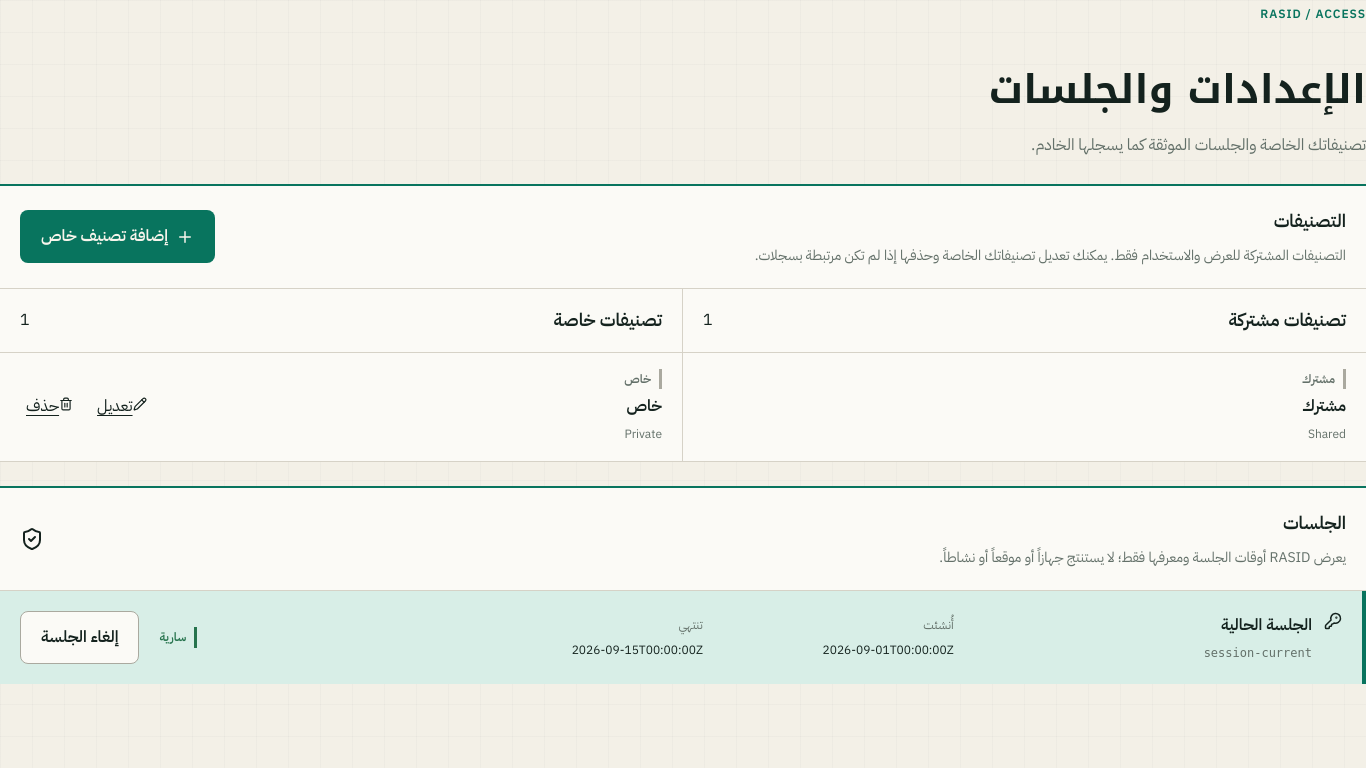
SettingsPage › keeps shared categories read-only and explains private-category deletion conflicts
Expected: the heading "تصنيفات مشتركة" is shown, [1228, 305, 1346, 336]
Expected: the number of buttons "تعديل" is 1, [91, 384, 153, 428]
Click the button "حذف" at [50, 406], box [20, 384, 79, 428]
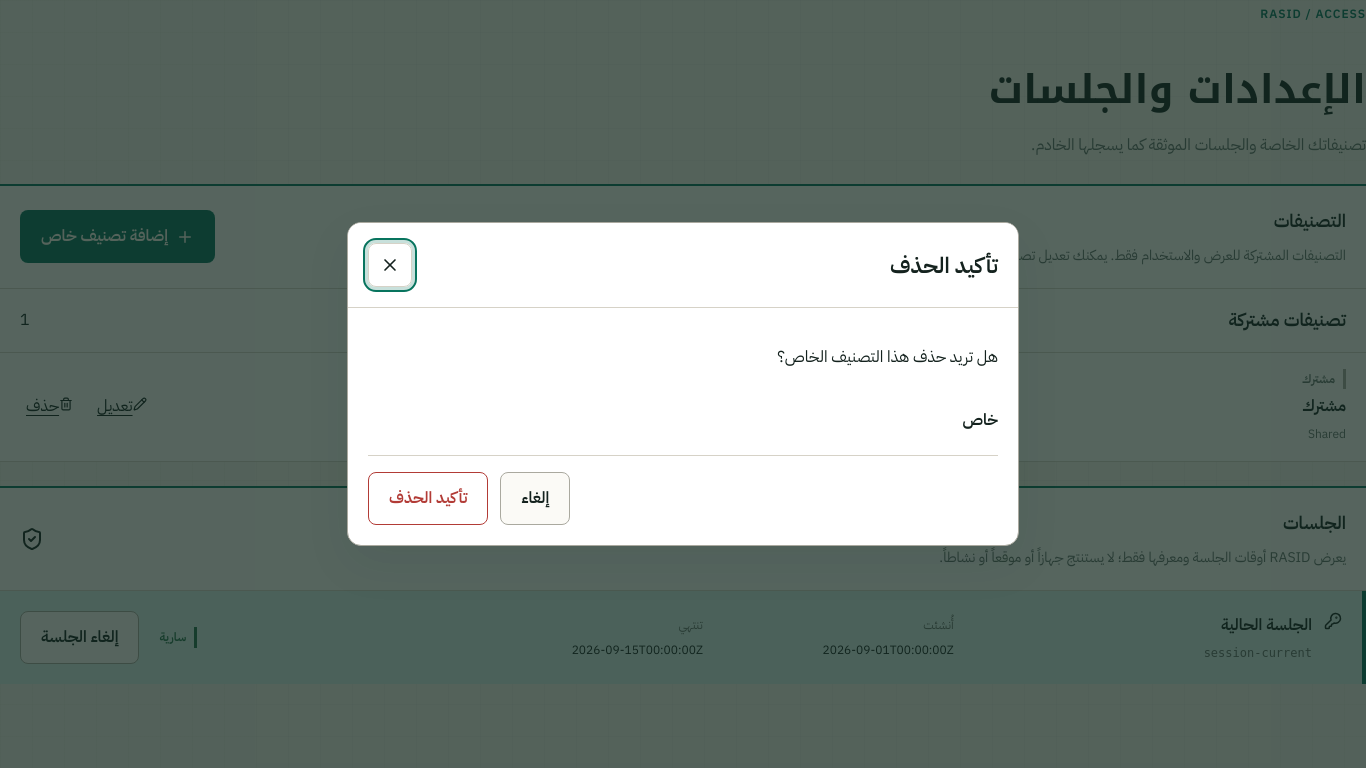
Click the button "تأكيد الحذف" at [428, 498], box [368, 472, 488, 525]
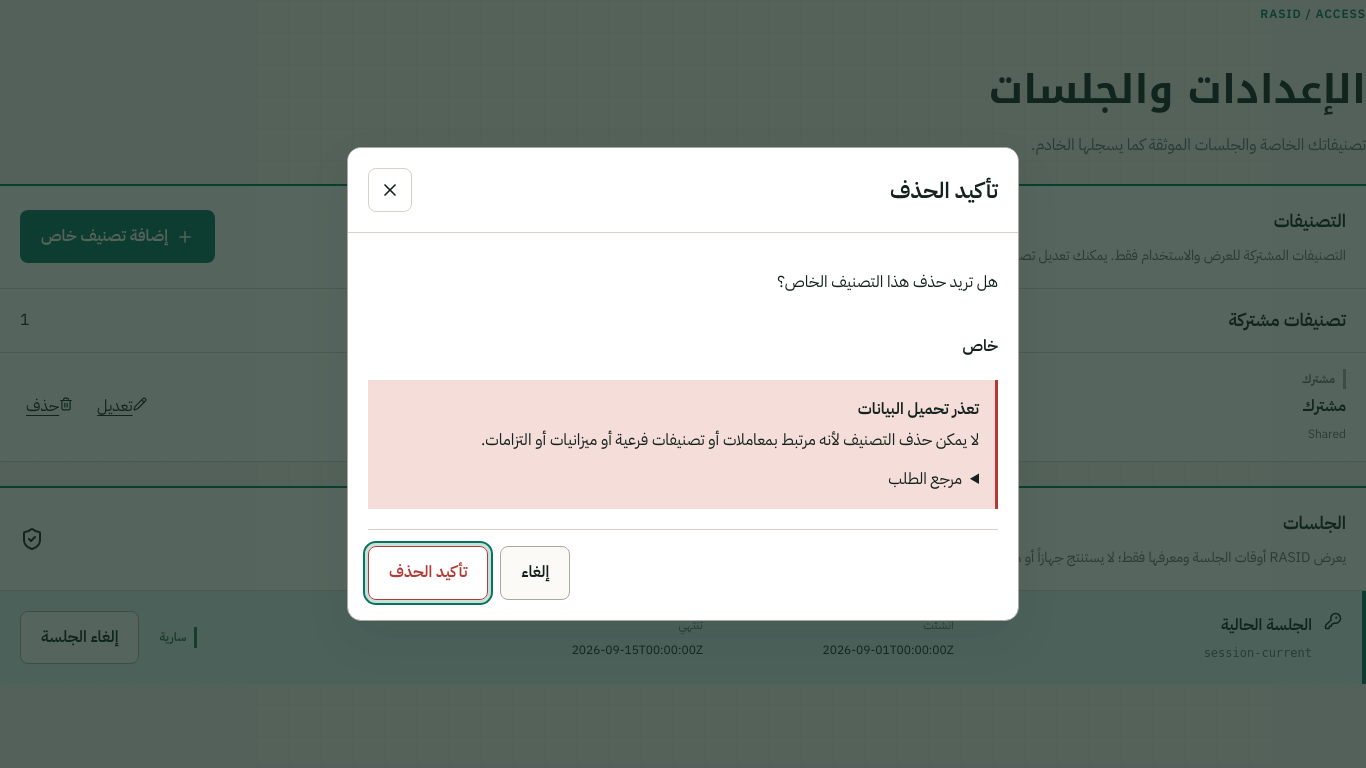
Now the message shows "مرتبط بمعاملات أو تصنيفات فرعية أو ميزانيات أو التزامات", box [481, 428, 979, 452]
